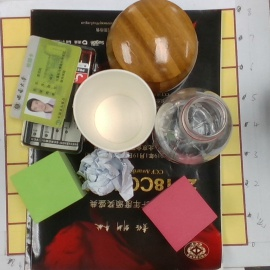bottle: (152, 88, 232, 171)
card: (10, 35, 81, 132)
chess: (110, 2, 199, 91)
cup: (73, 69, 158, 156)
